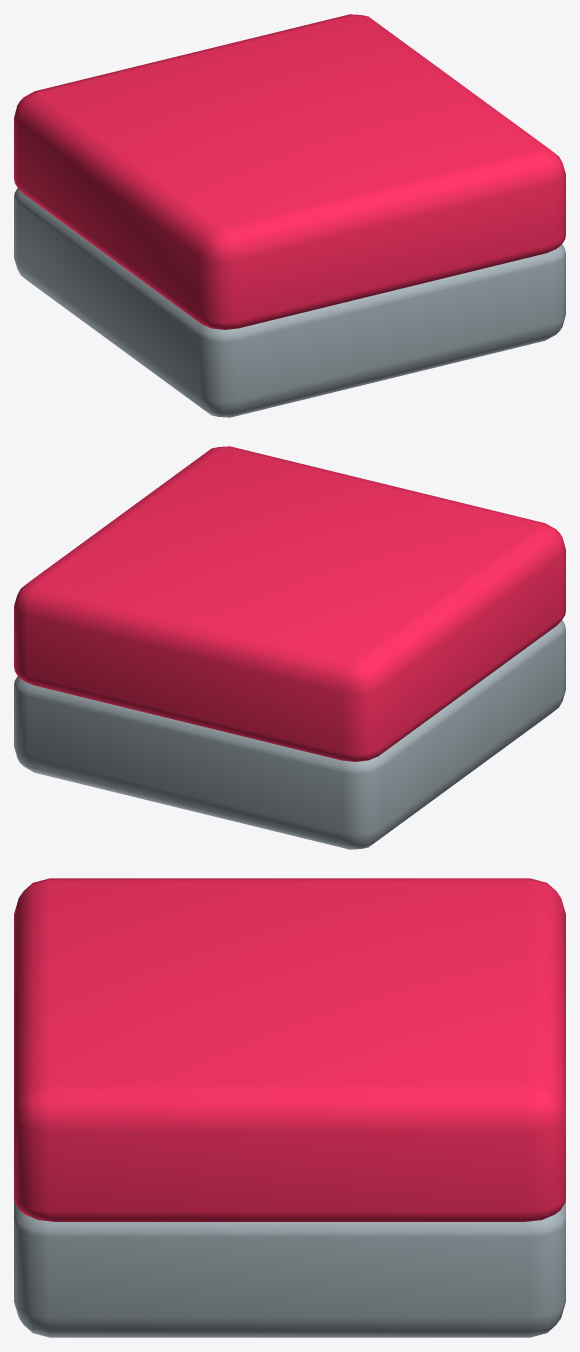
The model's file is tileLow_teamRed-col.glb.
The picture shows the model from 3 angles, top to bottom: view 1: azimuth 30°, elevation 25°; view 2: azimuth 150°, elevation 25°; view 3: azimuth 270°, elevation 25°; orthographic projection. The views are drawn at different scales.
Visible parts, largest first — view 1: tileLow_teamRed-col; view 2: tileLow_teamRed-col; view 3: tileLow_teamRed-col.
Part boxes in pixels (x1=…): tileLow_teamRed-col: x1=14, y1=14, x2=565, y2=417; tileLow_teamRed-col: x1=14, y1=446, x2=565, y2=849; tileLow_teamRed-col: x1=14, y1=878, x2=565, y2=1337.
Bounding box in the file's own units: 2 × 1 × 2.
